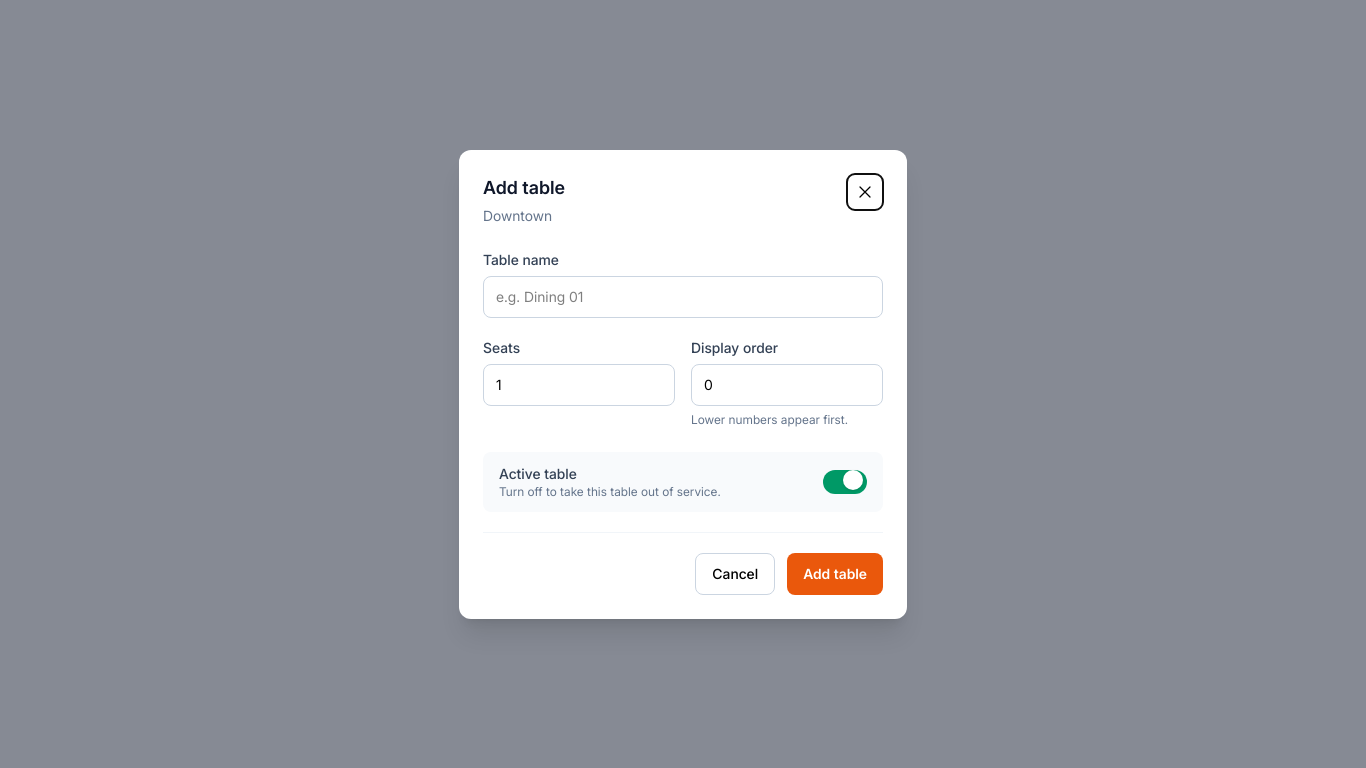
Test: TableFormModal › keeps values and displays backend validation errors
The width and height of the screenshot is (1366, 768).
Step 1. Type "T01" into the field with id "table-name" → (683, 296), box [483,276,883,318]
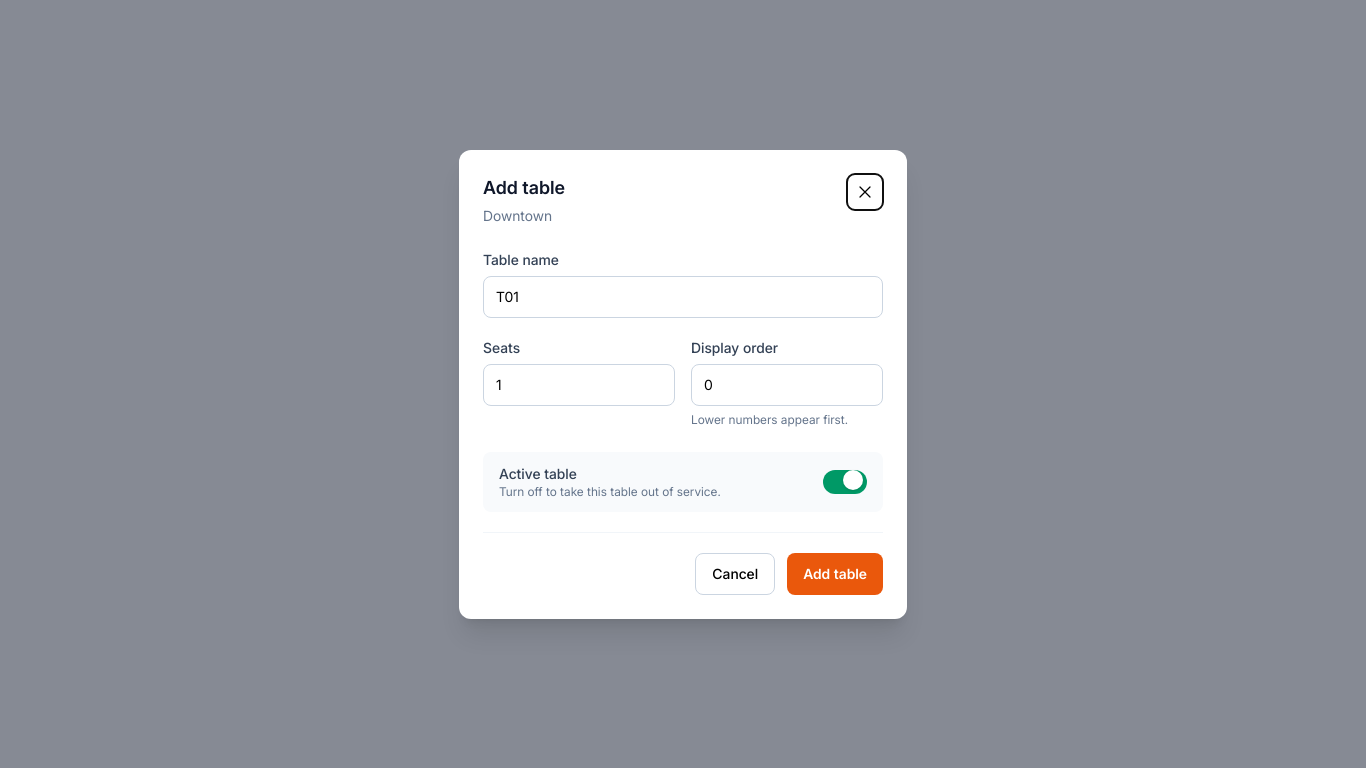
Step 2. Submit the form, box [483,250,883,594]
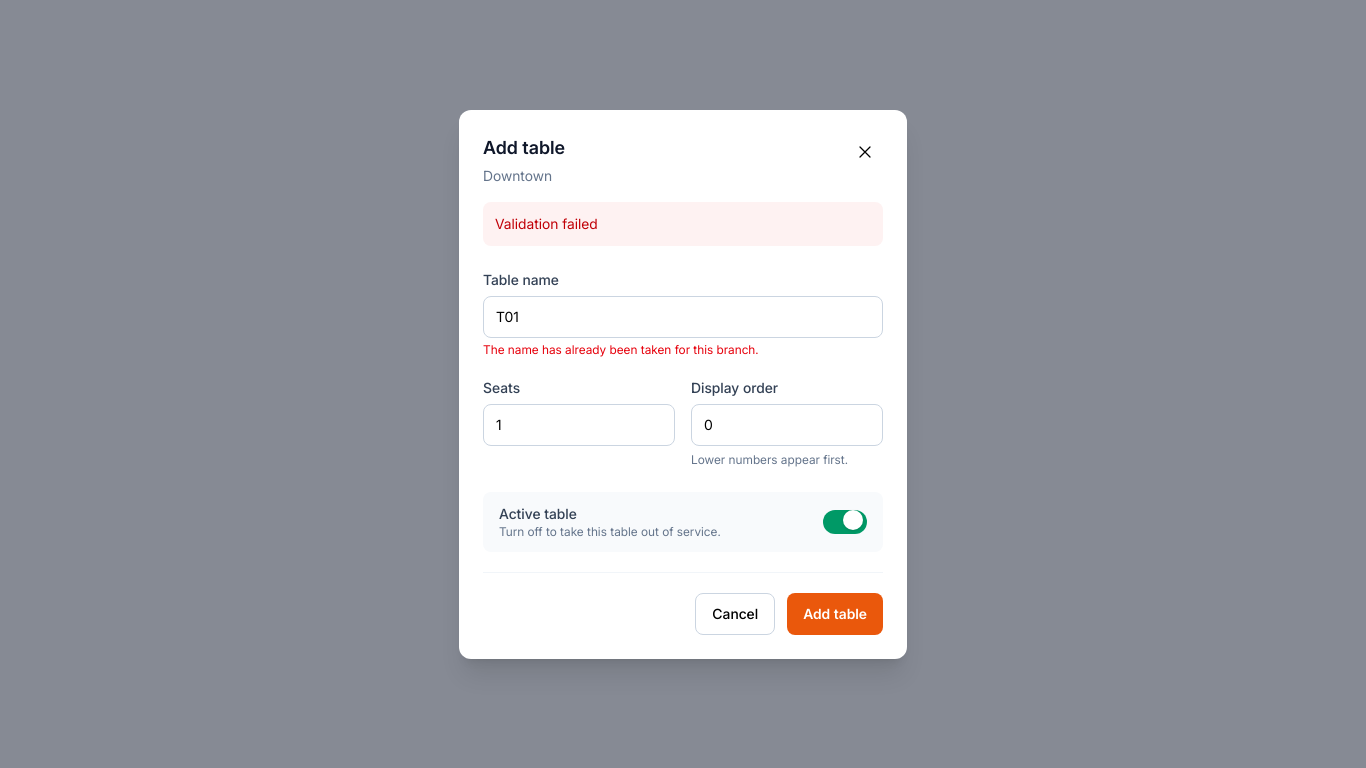
Check: the text "The name has already been taken for this branch." is shown, box [483,342,759,356]
